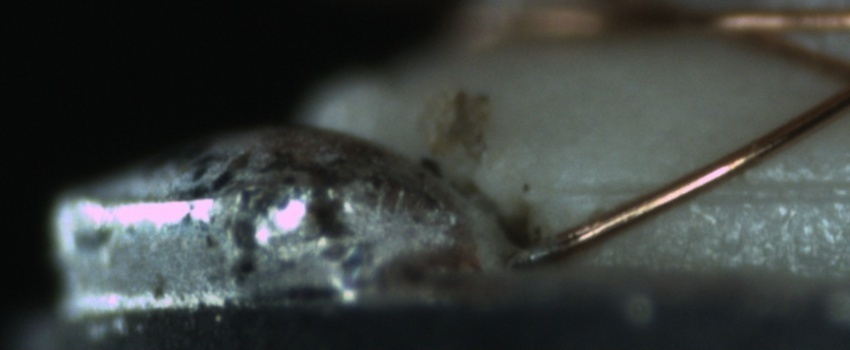DL: (554, 158, 850, 222)
TS: (520, 234, 568, 267)
